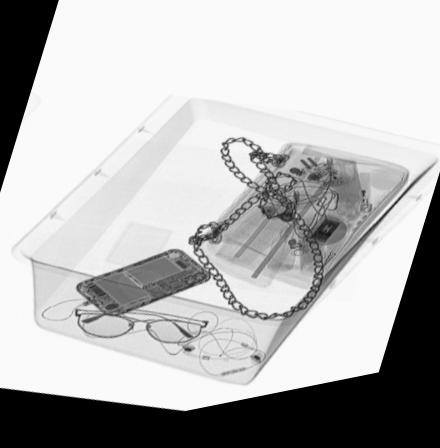Lighter: (351, 185, 377, 226)
